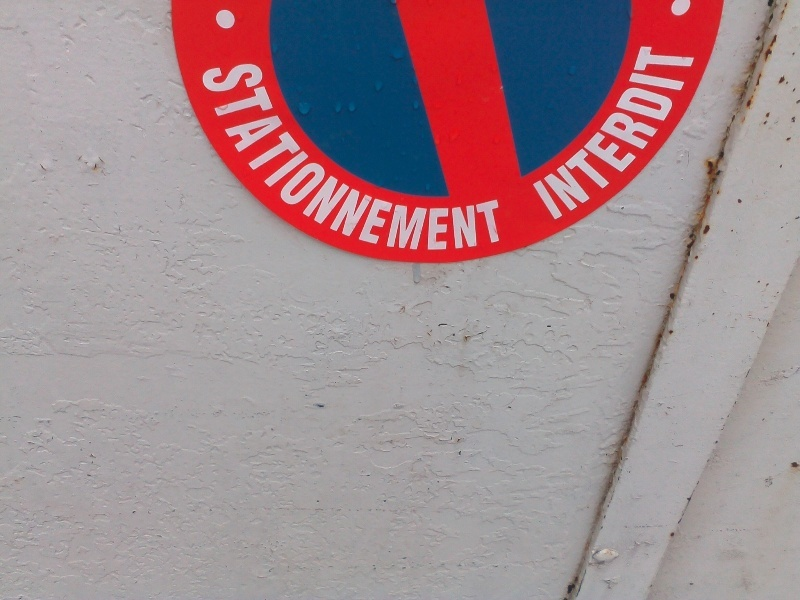text: (257, 58, 272, 334), (273, 58, 288, 334), (289, 58, 304, 334), (305, 58, 320, 334), (321, 58, 336, 334), (337, 58, 352, 334), (353, 58, 368, 334), (369, 58, 384, 334), (385, 58, 400, 334), (401, 58, 416, 334), (417, 58, 432, 334), (433, 58, 448, 334), (449, 58, 464, 334), (465, 58, 480, 334), (481, 58, 496, 334), (545, 45, 560, 246), (561, 45, 576, 246), (577, 45, 592, 246), (593, 45, 608, 246), (609, 45, 624, 246), (625, 45, 640, 246), (641, 45, 656, 246), (657, 45, 672, 246), (673, 45, 688, 246), (689, 45, 704, 246), (705, 45, 720, 246), (530, 45, 544, 246), (497, 58, 502, 334), (721, 45, 726, 246)
